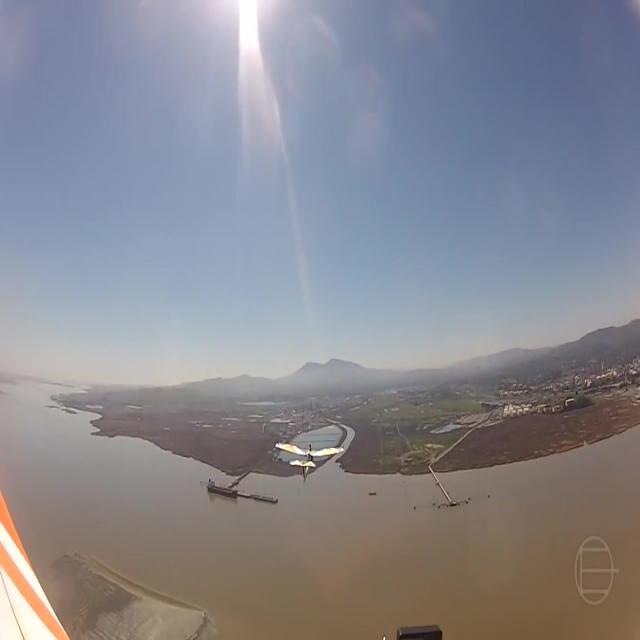iha: (306, 442, 312, 484)
